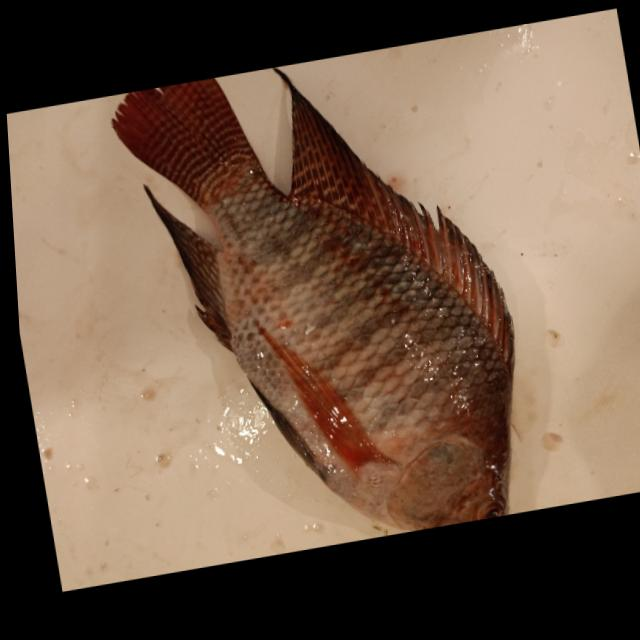Tilapia: (105, 30, 547, 572)
